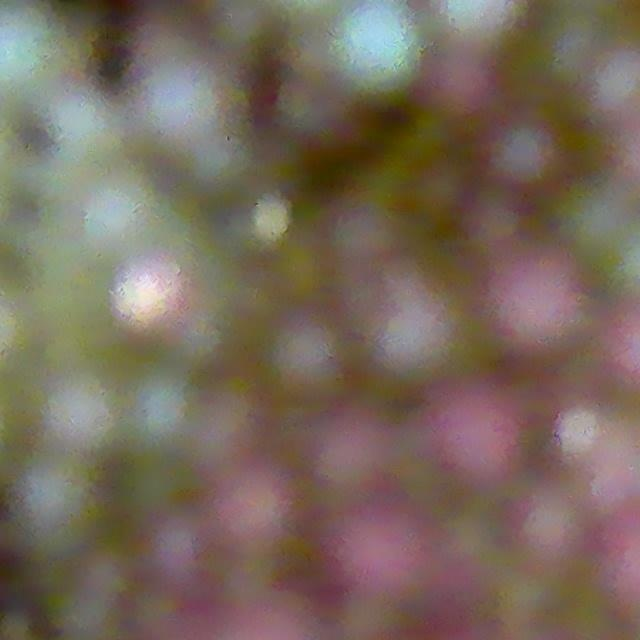SeaGrape: (310, 494, 450, 611), (488, 244, 585, 366), (430, 378, 527, 497), (196, 455, 302, 555), (494, 485, 583, 591), (9, 455, 104, 553), (265, 315, 354, 404), (40, 372, 123, 455), (488, 122, 568, 208), (424, 47, 501, 131), (141, 514, 216, 597), (344, 11, 412, 95)
